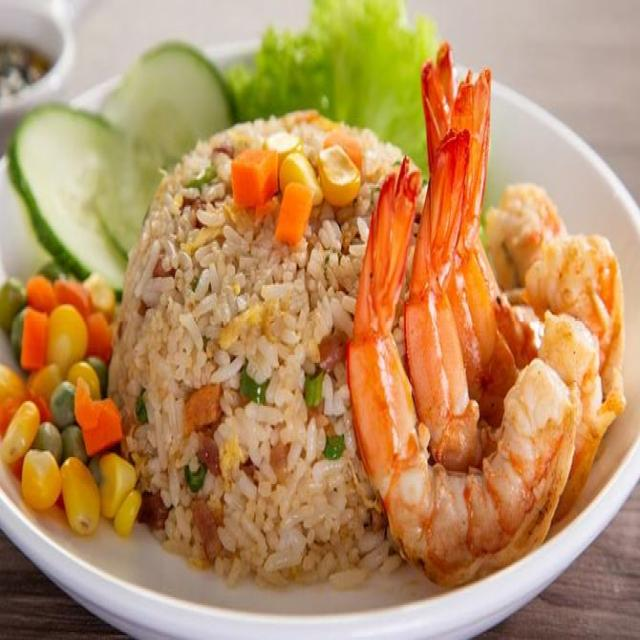carb: (117, 138, 389, 604)
fried rice: (13, 26, 630, 631)
meat: (378, 171, 635, 558)
vegetable: (17, 95, 134, 538), (238, 114, 359, 230)
